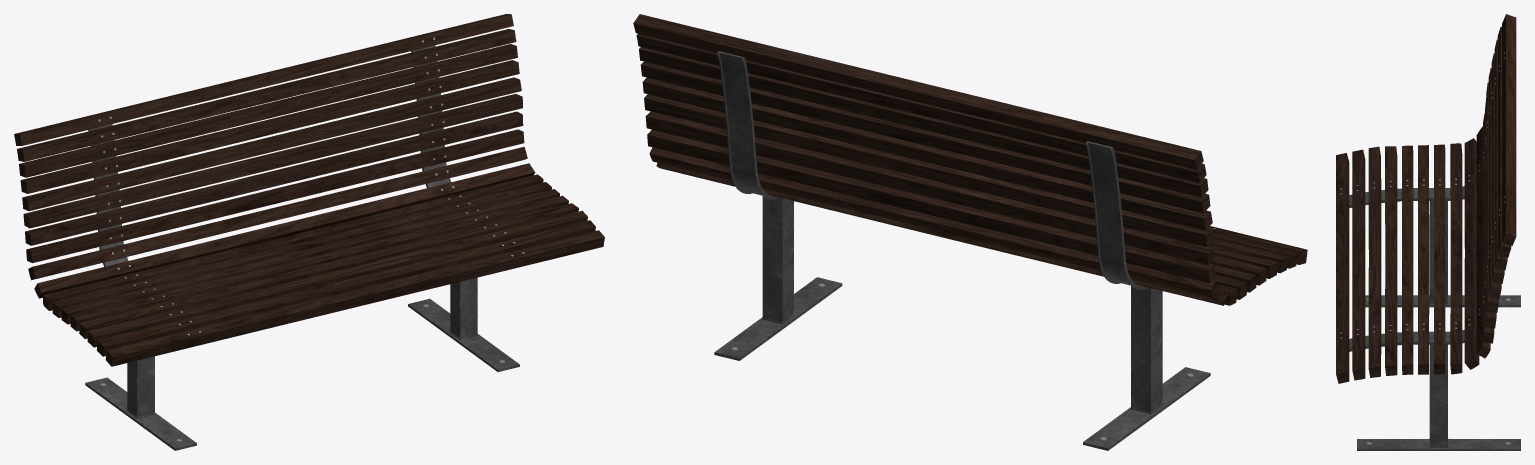
File: bench.gltf
The picture shows the model from 3 angles, left to right: view 1: azimuth 30°, elevation 25°; view 2: azimuth 150°, elevation 25°; view 3: azimuth 270°, elevation 25°; orthographic projection. The views are drawn at different scales.
Parts seen in each view (by area): view 1: wood, metal; view 2: wood, metal; view 3: wood, metal, screws.
Part boxes in pixels (x1=…): wood: x1=14, y1=14, x2=604, y2=366; metal: x1=85, y1=45, x2=519, y2=450; wood: x1=633, y1=14, x2=1307, y2=305; metal: x1=714, y1=51, x2=1210, y2=450; wood: x1=1336, y1=14, x2=1516, y2=383; metal: x1=1349, y1=186, x2=1520, y2=450; screws: x1=1340, y1=52, x2=1510, y2=444.
Bounding box in the file's own units: 226 × 120 × 80.32.
